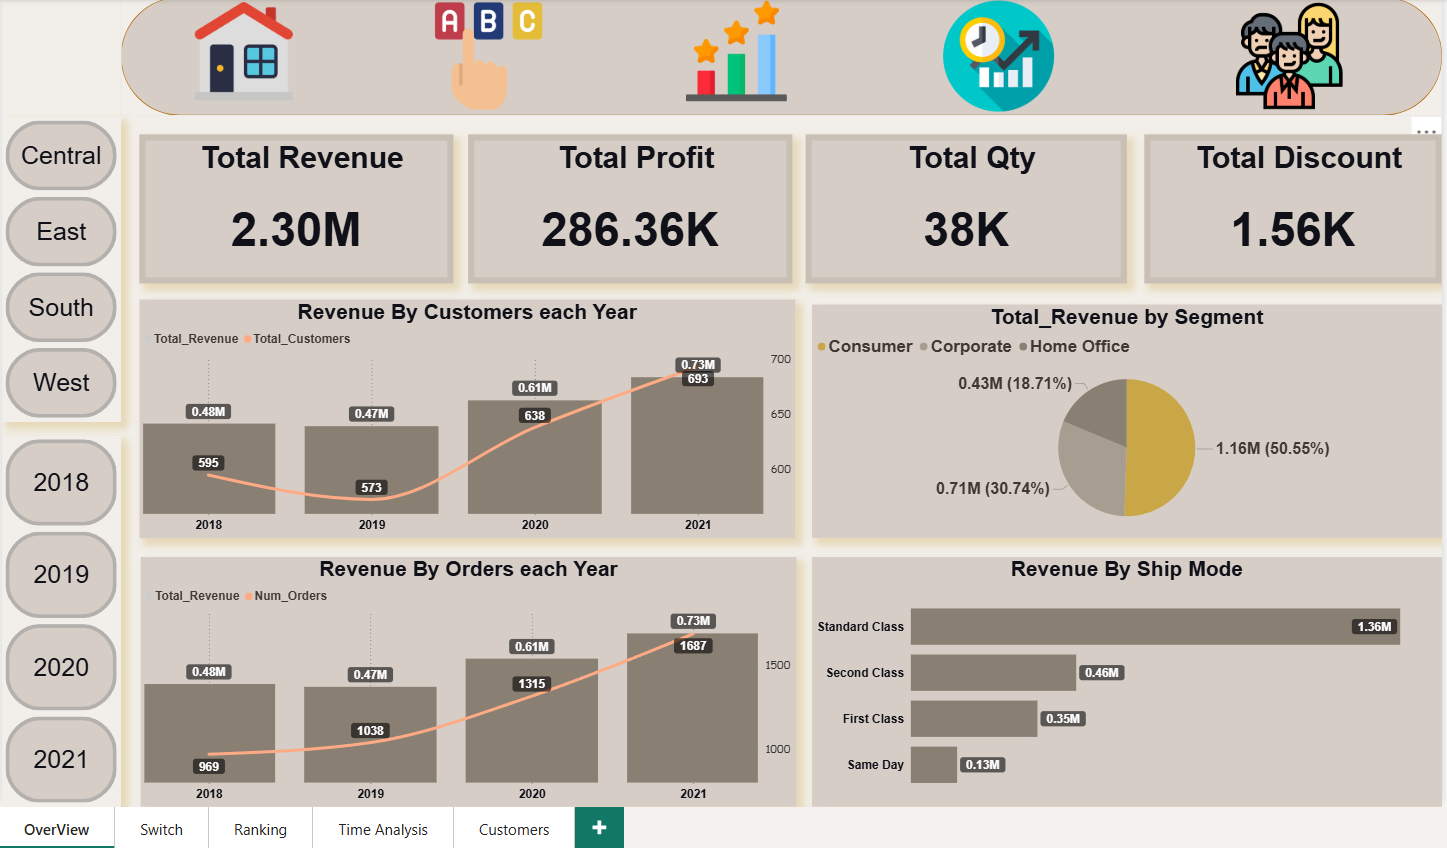

Layout of this report page (visuals, bound fields, positions):
{"tool":"powerbi","page":{"name":"OverView","canvas":[1920,1080],"ordinal":0},"visuals":[{"type":"advancedSlicerVisual","fields":{"Values":["Calendar_Table.Year"]},"box":[0,585.7,158.6,494.3],"z":2000},{"type":"advancedSlicerVisual","fields":{"Values":["Dim_Customer.Region"]},"box":[0,160,158.3,406.7],"z":3000},{"type":"shape","box":[158,0,1762,158],"z":5000},{"type":"card","title":"Total Profit","fields":{"Values":["Dax.Total_Profit"]},"box":[622,184,432,198],"z":6000},{"type":"card","fields":{"Values":["Dax.Show % Profit"]},"box":[621.8,295.5,121.8,106.4],"z":7000},{"type":"card","fields":{"Values":["Dax.Show Arrow Profit"]},"box":[924.5,291.8,170,110],"z":8000},{"type":"card","title":"Total Qty","fields":{"Values":["Dax.Total_Quantity"]},"box":[1072,184,428,198],"z":9000},{"type":"card","fields":{"Values":["Dax.Show % Quantity"]},"box":[1080,295.5,136.4,103.6],"z":10000},{"type":"card","fields":{"Values":["Dax.Show Arrow Quantity"]},"box":[1373.6,291.8,172.7,106.4],"z":11000},{"type":"card","title":"Total Discount","fields":{"Values":["Dax.Total_Discount"]},"box":[1524,184,396,198],"z":12000},{"type":"card","fields":{"Values":["Dax.Show % Discount"]},"box":[1523.6,291.8,136.4,103.6],"z":13000},{"type":"card","fields":{"Values":["Dax.Show Arrow Discount"]},"box":[1840.9,295.5,79.1,94.5],"z":14000},{"type":"lineClusteredColumnComboChart","title":"Revenue By Customers each Year","fields":{"Category":["Calendar_Table.Year"],"Y":["Dax.Total_Revenue"],"Y2":["Dax.Total_Customers"]},"box":[184,404,874,318],"z":15000},{"type":"barChart","title":"Revenue By Ship Mode","fields":{"Category":["Dim_Order.Ship Mode"],"Y":["Dax.Total_Revenue"]},"box":[1080.4,747.4,839.7,333],"z":16000},{"type":"pieChart","fields":{"Y":["Dax.Total_Revenue"],"Category":["Dim_Order.Segment"]},"box":[1080.4,410.8,839.7,311.3],"z":17000},{"type":"lineClusteredColumnComboChart","title":"Revenue By Orders each Year","fields":{"Category":["Calendar_Table.Year"],"Y2":["Dax.Num_Orders"],"Y":["Dax.Total_Revenue"]},"box":[184.6,747.4,874.1,333],"z":18000},{"type":"image","box":[230.7,0,184.2,144.8],"z":19000},{"type":"image","box":[570,0,158,158],"z":20000},{"type":"image","box":[1638,0,156,158],"z":21000},{"type":"image","box":[900,0,158,144],"z":22000},{"type":"image","box":[1250,0,158,158],"z":23000},{"type":"card","title":"Total Revenue","fields":{"Values":["Dax.Total_Revenue"]},"box":[184,184,418,198],"z":24000},{"type":"card","fields":{"Values":["Dax.Show Arrow Revenue"]},"box":[479.1,295.5,170,106.4],"z":25000},{"type":"card","fields":{"Values":["Dax.Show % Revenue"]},"box":[183.6,298.2,124.5,103.6],"z":25500}]}

Visuals, with their boxes on the page's 1920x1080 design canvas (x1, y1, x2, y2). These are canvas units, not pixel positions in the 1447x848 screenshot, which may show the page scaled, cropped or inside an application window:
advancedSlicerVisual - Calendar_Table.Year: 0,586,159,1080
advancedSlicerVisual - Dim_Customer.Region: 0,160,158,567
shape: 158,0,1920,158
"Total Profit" card: 622,184,1054,382
card - Dax.Show % Profit: 622,296,744,402
card - Dax.Show Arrow Profit: 924,292,1094,402
"Total Qty" card: 1072,184,1500,382
card - Dax.Show % Quantity: 1080,296,1216,399
card - Dax.Show Arrow Quantity: 1374,292,1546,398
"Total Discount" card: 1524,184,1920,382
card - Dax.Show % Discount: 1524,292,1660,395
card - Dax.Show Arrow Discount: 1841,296,1920,390
"Revenue By Customers each Year" lineClusteredColumnComboChart: 184,404,1058,722
"Revenue By Ship Mode" barChart: 1080,747,1920,1080
pieChart - Dax.Total_Revenue x Dim_Order.Segment: 1080,411,1920,722
"Revenue By Orders each Year" lineClusteredColumnComboChart: 185,747,1059,1080
image: 231,0,415,145
image: 570,0,728,158
image: 1638,0,1794,158
image: 900,0,1058,144
image: 1250,0,1408,158
"Total Revenue" card: 184,184,602,382
card - Dax.Show Arrow Revenue: 479,296,649,402
card - Dax.Show % Revenue: 184,298,308,402
